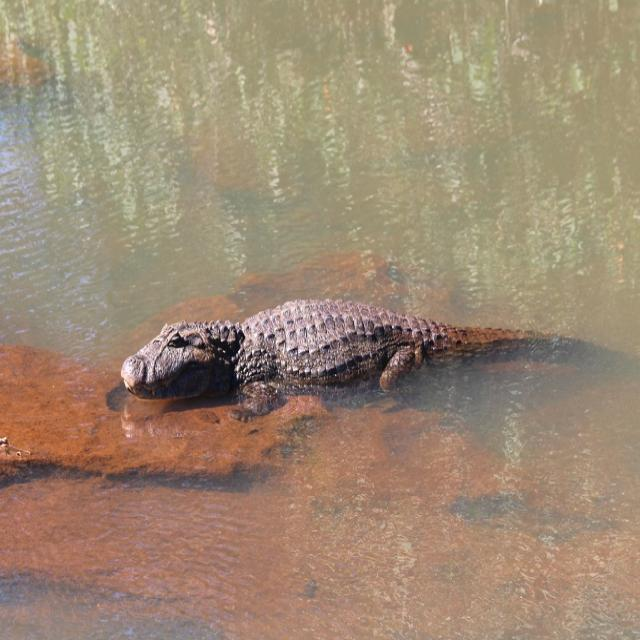crocodile: (70, 264, 639, 472)
